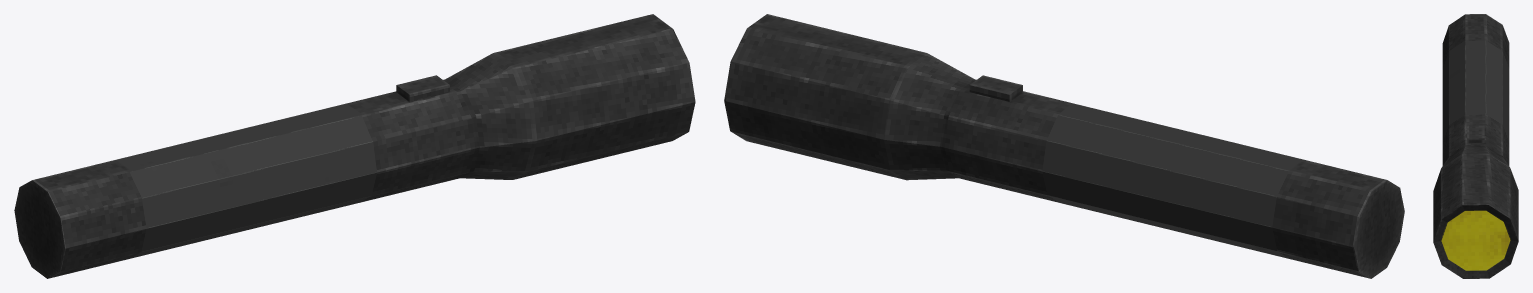
The model's file is Flashlight.glb.
The picture shows the model from 3 angles, left to right: view 1: azimuth 30°, elevation 25°; view 2: azimuth 150°, elevation 25°; view 3: azimuth 270°, elevation 25°; orthographic projection. The views are drawn at different scales.
Visible parts, largest first — view 1: pCube2; view 2: pCube2; view 3: pCube2.
Part boxes in pixels (bbox=[...]): pCube2: bbox=[14, 14, 695, 278]; pCube2: bbox=[724, 14, 1404, 278]; pCube2: bbox=[1433, 14, 1518, 278].
Bounding box in the file's own units: 8.28 × 1.43 × 1.5.
1 material, 1 textured.
